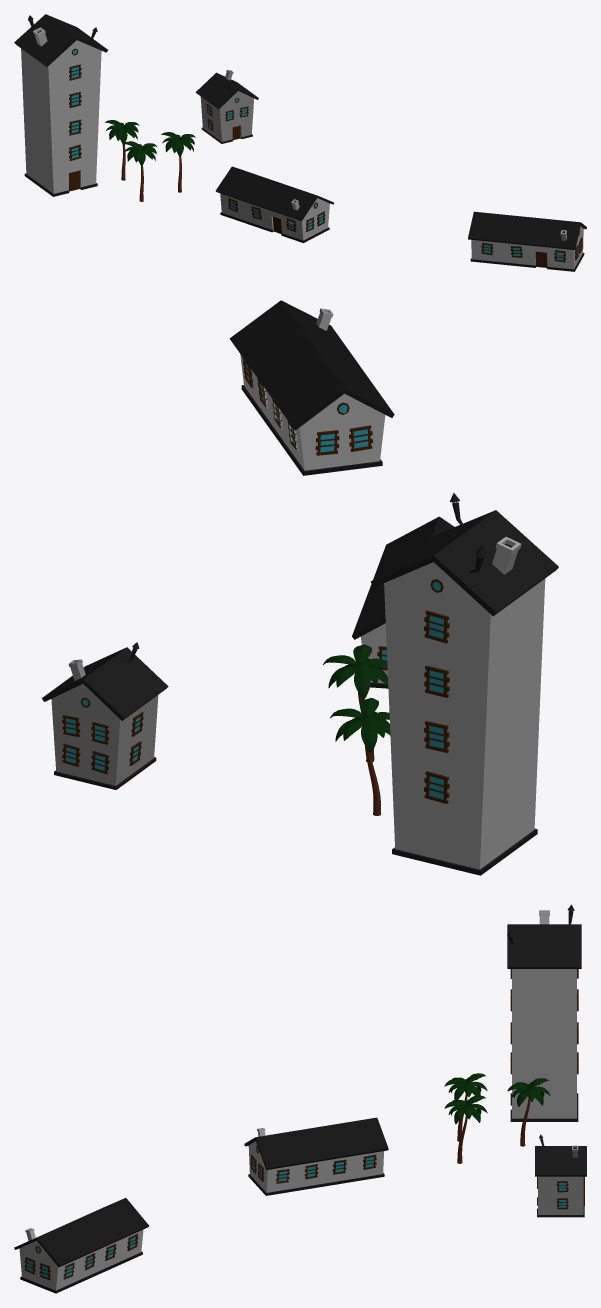
Rendered from HousesOne.obj.
3 views of the same model, one above another, from view 1: azimuth 30°, elevation 25°; view 2: azimuth 150°, elevation 25°; view 3: azimuth 270°, elevation 25° (orthographic). The views are drawn at different scales.
Parts seen in each view (by area): view 1: h1.004_h1.010_white.013, h1.016_h1.022_roof.015, h1.012_h1.018_roof.012, h1.002_h1.009_roof.013, h1.011_h1.017_white.012, h1.015_h1.021_white.015, h1.008_h1.014_white.008, h1.007_h1.013_roof.008, h1.000_h1.007_brown.009, h1.009_h1.015_Brown.003, h1.013_h1.019_Brown.004, h1.019_h1.025_green2 (+3 smaller); view 2: h1.004_h1.010_white.013, h1.016_h1.022_roof.015, h1.002_h1.009_roof.013, h1.008_h1.014_white.008, h1.015_h1.021_white.015, h1.007_h1.013_roof.008, h1.012_h1.018_roof.012, h1.000_h1.007_brown.009, h1.017_h1.023_green_1, h1.021_h1.027_green_3, h1.005_h1.011_brown.008, h1.013_h1.019_Brown.004 (+1 smaller); view 3: h1.004_h1.010_white.013, h1.012_h1.018_roof.012, h1.016_h1.022_roof.015, h1.002_h1.009_roof.013, h1.011_h1.017_white.012, h1.015_h1.021_white.015, h1.007_h1.013_roof.008, h1.008_h1.014_white.008, h1.009_h1.015_Brown.003, h1.013_h1.019_Brown.004, h1.021_h1.027_green_3, h1.017_h1.023_green_1 (+1 smaller).
Part boxes in pixels (bbox=[...]): h1.004_h1.010_white.013: bbox=[21, 27, 101, 193]; h1.016_h1.022_roof.015: bbox=[468, 211, 586, 271]; h1.012_h1.018_roof.012: bbox=[215, 166, 333, 242]; h1.002_h1.009_roof.013: bbox=[14, 14, 107, 196]; h1.011_h1.017_white.012: bbox=[220, 193, 329, 240]; h1.015_h1.021_white.015: bbox=[471, 226, 583, 269]; h1.008_h1.014_white.008: bbox=[200, 70, 253, 141]; h1.007_h1.013_roof.008: bbox=[195, 72, 258, 143]; h1.000_h1.007_brown.009: bbox=[68, 48, 81, 191]; h1.009_h1.015_Brown.003: bbox=[228, 198, 325, 233]; h1.013_h1.019_Brown.004: bbox=[481, 231, 582, 267]; h1.019_h1.025_green2: bbox=[123, 141, 157, 166]; h1.004_h1.010_white.013: bbox=[384, 536, 545, 869]; h1.016_h1.022_roof.015: bbox=[229, 300, 394, 475]; h1.002_h1.009_roof.013: bbox=[371, 492, 558, 875]; h1.008_h1.014_white.008: bbox=[51, 659, 158, 785]; h1.015_h1.021_white.015: bbox=[240, 308, 385, 470]; h1.007_h1.013_roof.008: bbox=[42, 642, 168, 789]; h1.012_h1.018_roof.012: bbox=[352, 516, 454, 688]; h1.000_h1.007_brown.009: bbox=[424, 579, 449, 803]; h1.017_h1.023_green_1: bbox=[323, 644, 388, 699]; h1.021_h1.027_green_3: bbox=[330, 698, 390, 753]; h1.005_h1.011_brown.008: bbox=[62, 697, 155, 786]; h1.013_h1.019_Brown.004: bbox=[242, 357, 372, 455]; h1.004_h1.010_white.013: bbox=[512, 910, 576, 1118]; h1.012_h1.018_roof.012: bbox=[244, 1117, 388, 1195]; h1.016_h1.022_roof.015: bbox=[14, 1198, 148, 1293]; h1.002_h1.009_roof.013: bbox=[507, 904, 581, 1121]; h1.011_h1.017_white.012: bbox=[248, 1128, 384, 1192]; h1.015_h1.021_white.015: bbox=[19, 1228, 143, 1290]; h1.007_h1.013_roof.008: bbox=[535, 1134, 586, 1217]; h1.008_h1.014_white.008: bbox=[538, 1145, 583, 1214]; h1.009_h1.015_Brown.003: bbox=[250, 1146, 376, 1183]; h1.013_h1.019_Brown.004: bbox=[24, 1234, 138, 1280]; h1.021_h1.027_green_3: bbox=[507, 1078, 550, 1106]; h1.017_h1.023_green_1: bbox=[444, 1095, 487, 1124].
Bounding box in the file's own units: 2.35 × 1.06 × 2.77.
